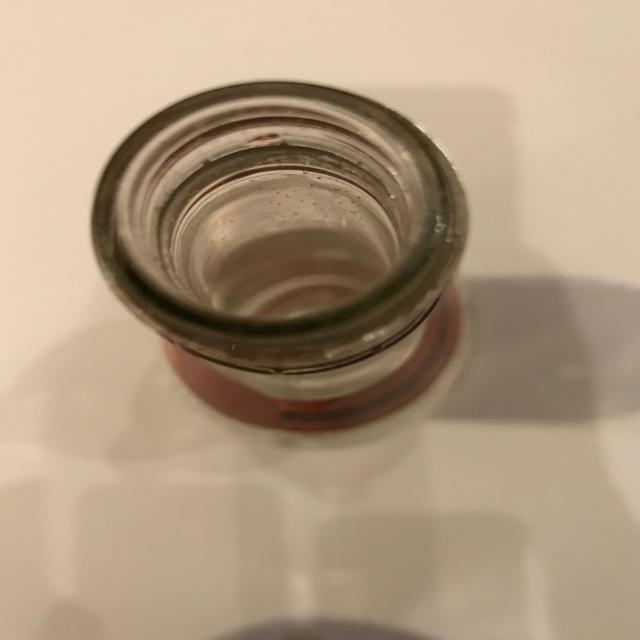glass: (89, 79, 472, 434)
